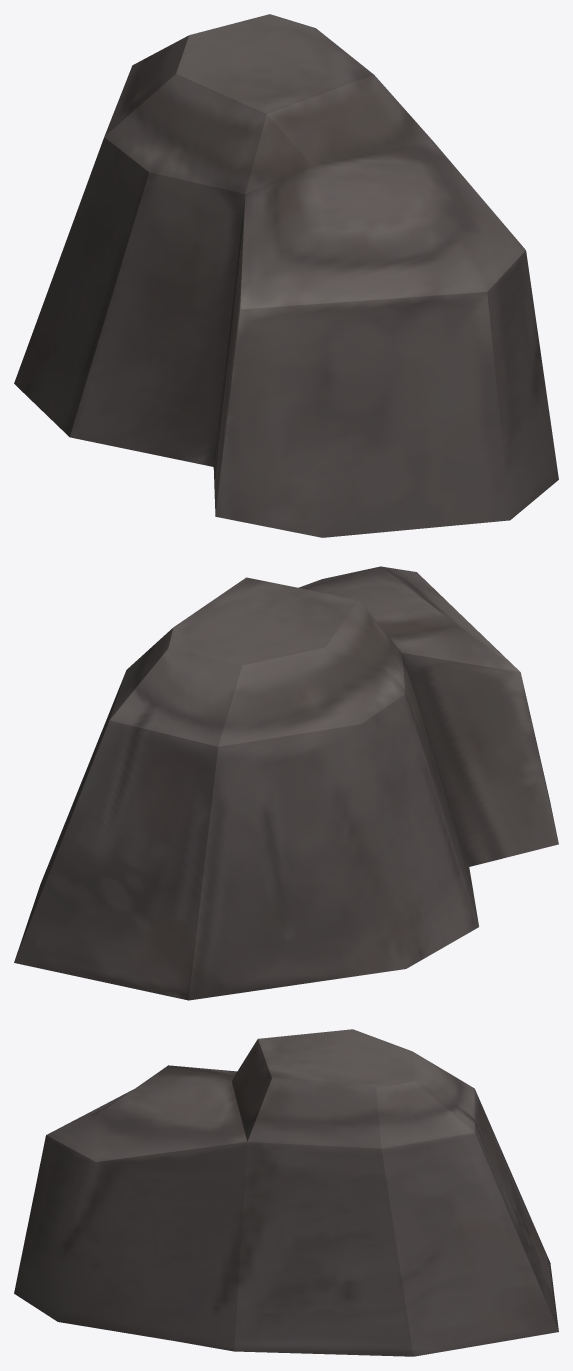
The model's file is rock_small_03.fbx.
3 renders of one model, top to bottom at view 1: azimuth 30°, elevation 25°; view 2: azimuth 150°, elevation 25°; view 3: azimuth 270°, elevation 25°, orthographic. The views are drawn at different scales.
Parts seen in each view (by area): view 1: rock_small_03; view 2: rock_small_03; view 3: rock_small_03.
Boxes of the visible parts, x1,y1,x2,y2 form: rock_small_03: (14, 14, 558, 537); rock_small_03: (14, 566, 558, 1000); rock_small_03: (14, 1029, 558, 1356).
Bounding box in the file's own units: 116 × 81.67 × 176.
Materials: 1 (1 with a texture image).
